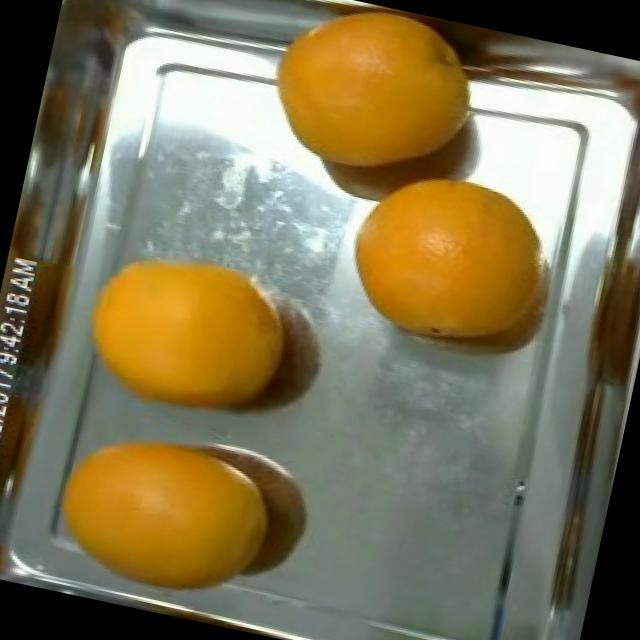Fruit: (51, 208, 302, 444)
